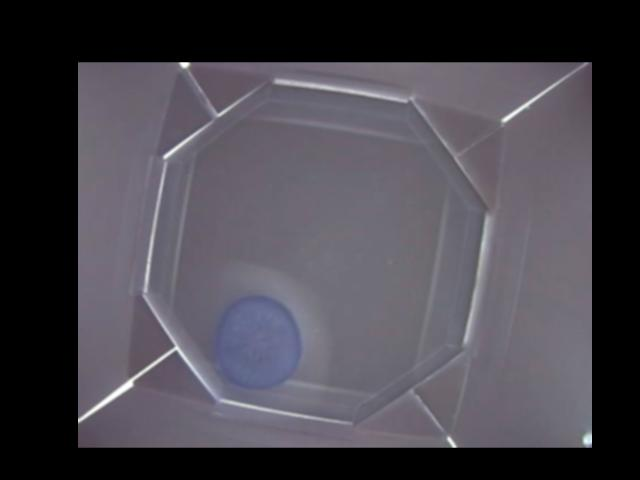Mooli: (211, 295, 304, 388)
